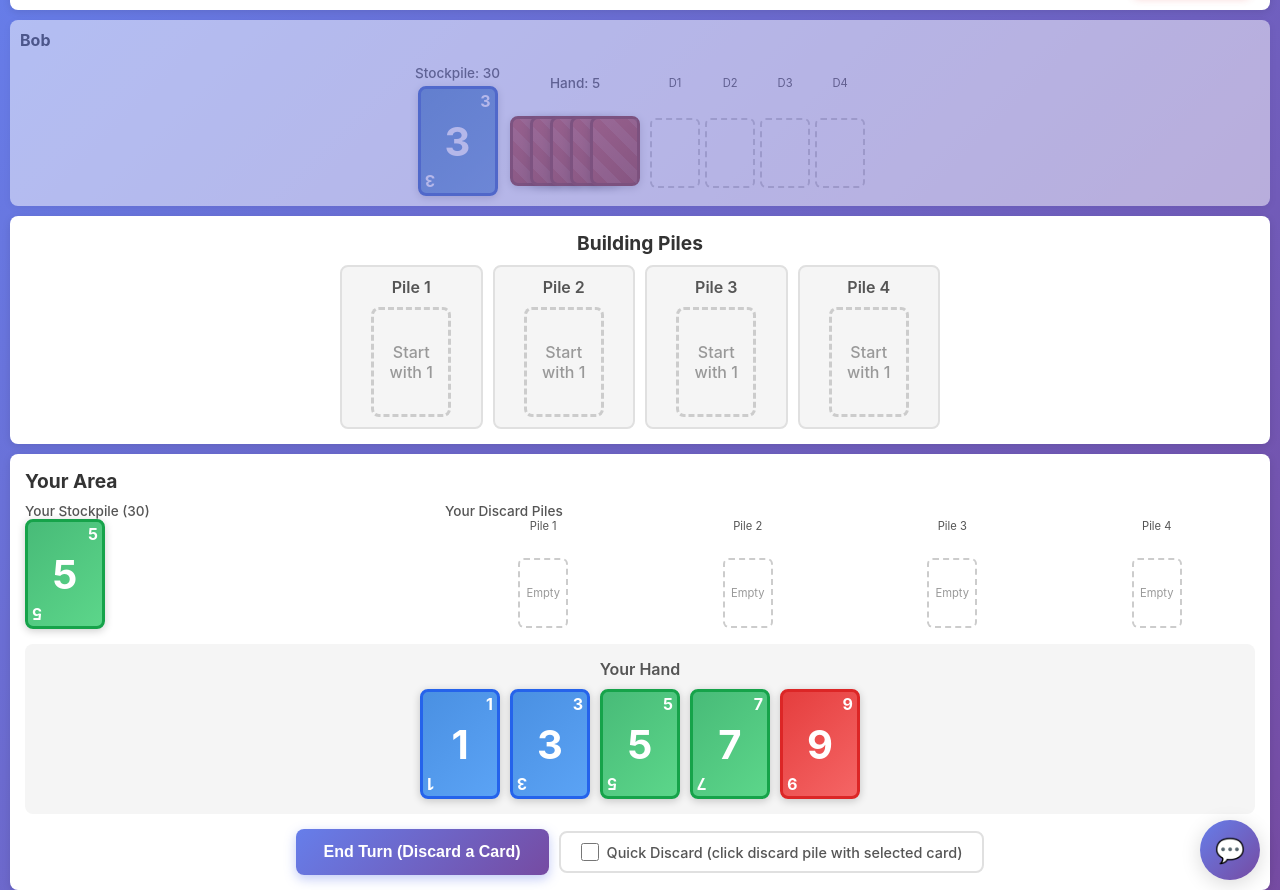
Test: GameBoard › active game › shows discard instruction after clicking End Turn
(page scrolled)
Click the button "End Turn (Discard a Card)" at (422, 852), box [296,829,549,875]
(page scrolled)
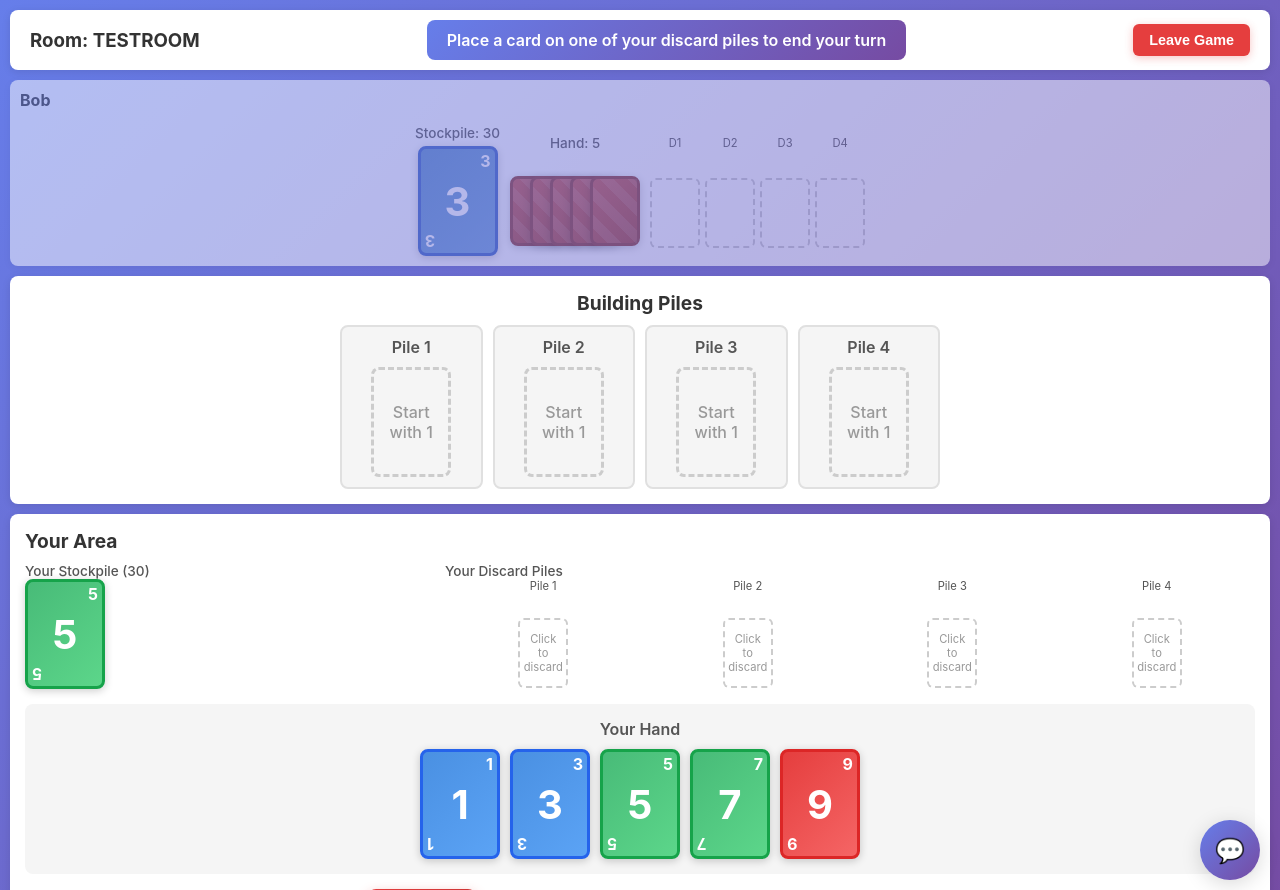
Now the text "Place a card on one of your discard piles to end your turn" is shown, box [427,20,906,60]
